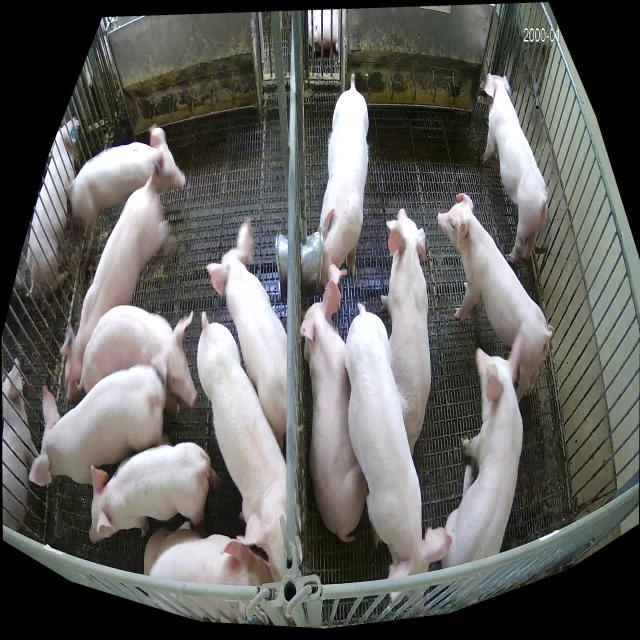pig: (344, 311, 451, 577), (60, 156, 176, 401), (438, 193, 554, 402), (198, 312, 286, 582), (441, 332, 526, 569), (206, 219, 287, 451), (299, 281, 367, 542), (29, 366, 165, 487), (482, 74, 550, 263), (379, 208, 431, 455), (67, 126, 186, 229), (88, 444, 210, 544), (83, 305, 197, 411), (320, 74, 368, 286), (144, 527, 276, 585)
